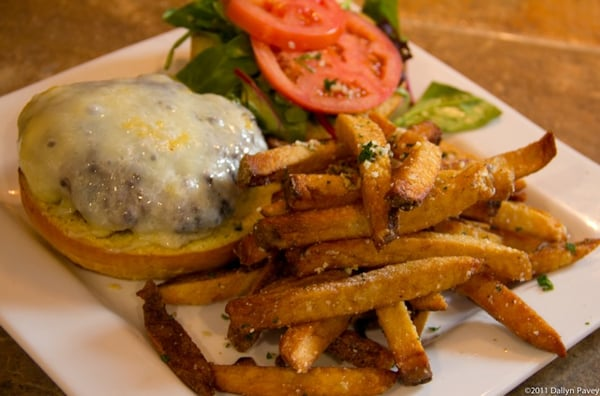soup: (15, 72, 282, 280)
